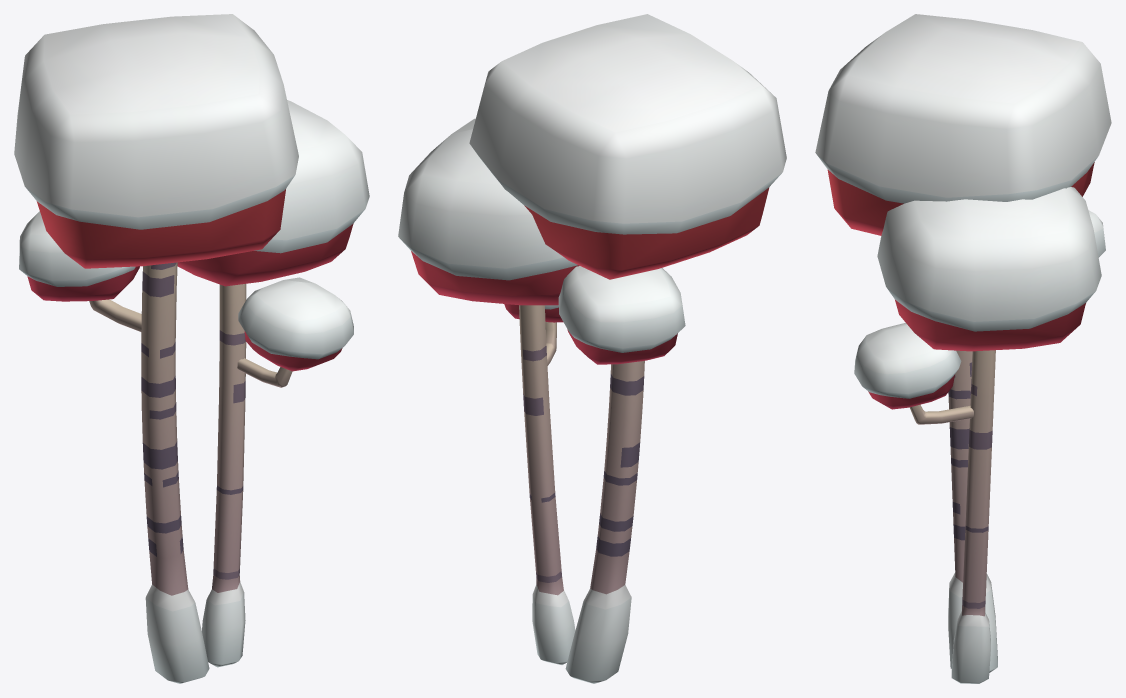
Rendered from birch_tree_SC_06_snow.fbx.
The picture shows the model from 3 angles, left to right: view 1: azimuth 30°, elevation 25°; view 2: azimuth 150°, elevation 25°; view 3: azimuth 270°, elevation 25°; orthographic projection. The views are drawn at different scales.
Parts seen in each view (by area): view 1: birch_tree_SC_06_snow; view 2: birch_tree_SC_06_snow; view 3: birch_tree_SC_06_snow.
Part boxes in pixels (x1,y1,x2,y2): birch_tree_SC_06_snow: (14, 14, 369, 683); birch_tree_SC_06_snow: (398, 14, 786, 683); birch_tree_SC_06_snow: (815, 14, 1111, 683).
Size of the model in its own units: 389 by 709 by 313.
Materials: 1 (1 with a texture image).
